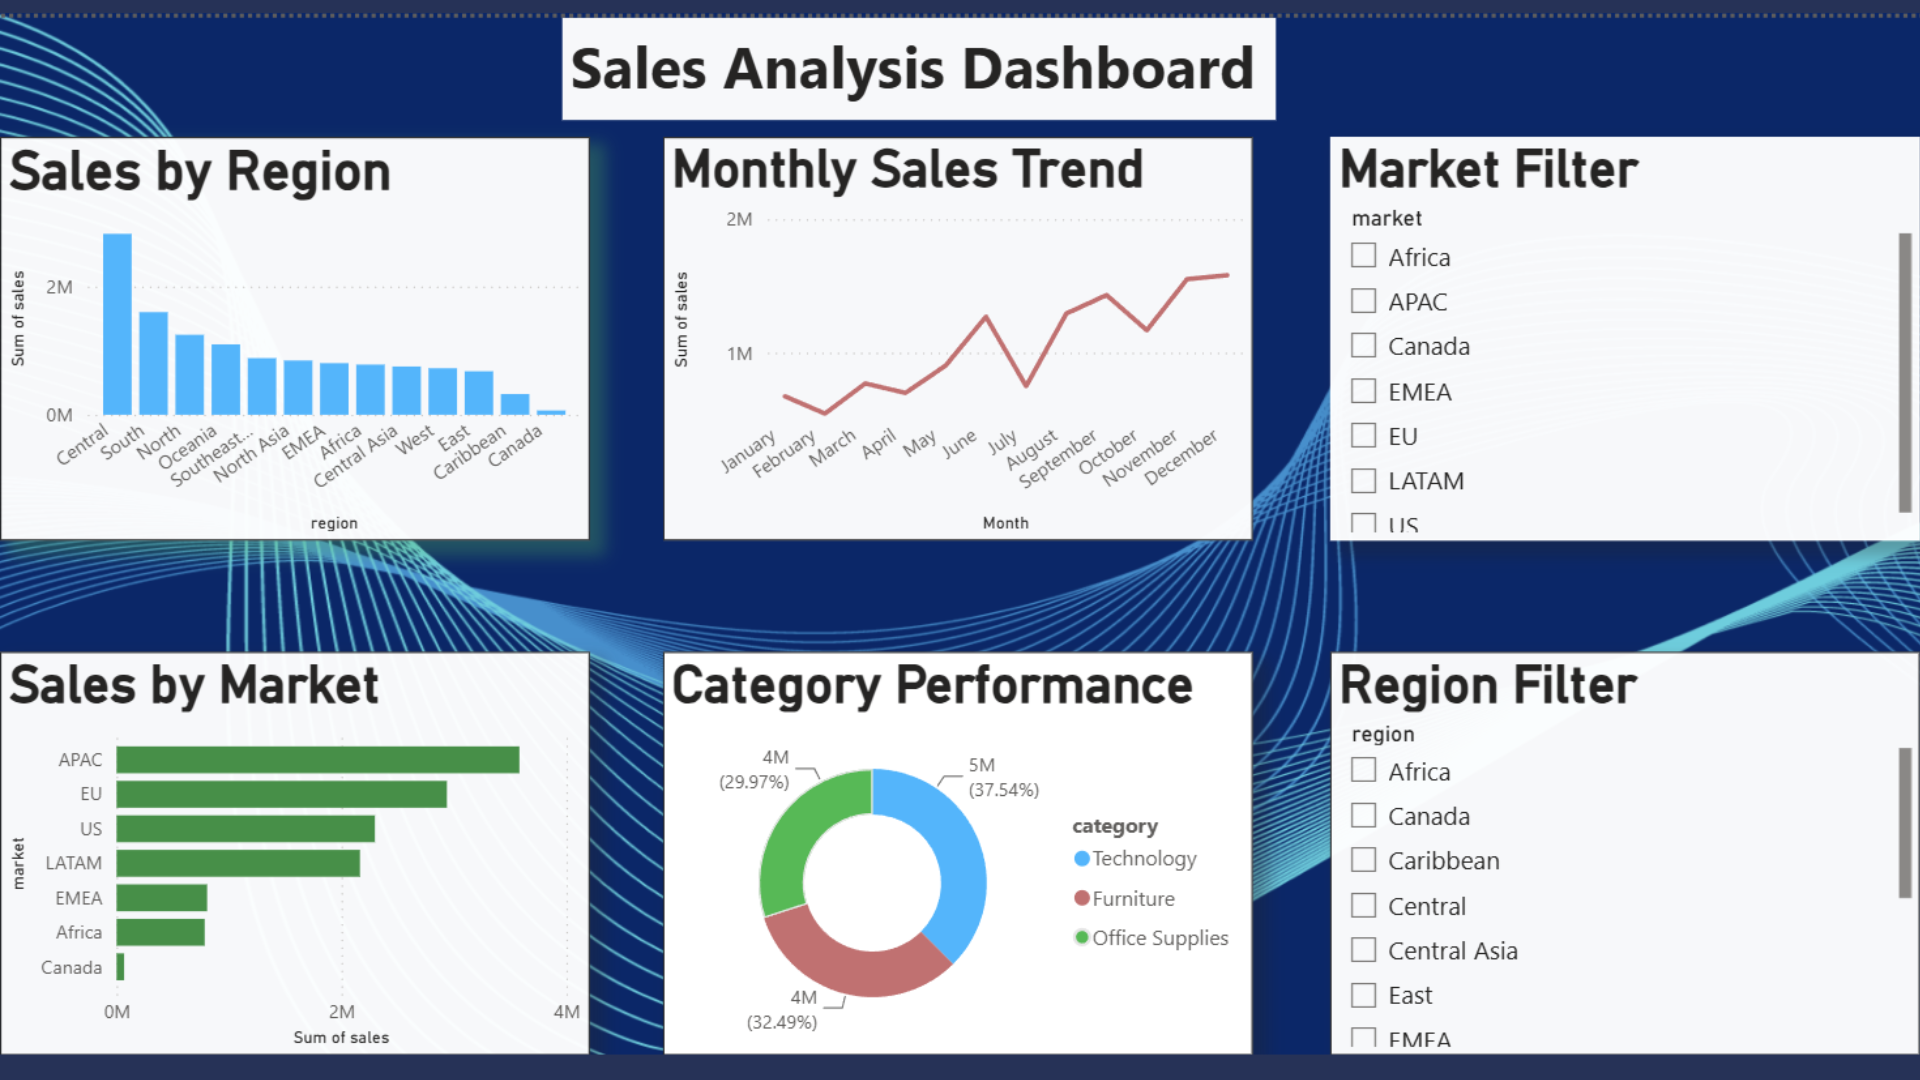

What the dashboard file says about the page in this screenshot:
{"tool":"powerbi","page":{"name":"Page 2","canvas":[1280,720],"ordinal":1},"visuals":[{"type":"clusteredColumnChart","title":" Sales by Region","fields":{"Category":["Dataset.region"],"Y":["Sum(Dataset.sales)"]},"box":[32.9,77.1,380,260],"z":0},{"type":"barChart","title":"Sales by Market","fields":{"Category":["Dataset.market"],"Y":["Sum(Dataset.sales)"]},"box":[32.9,408.6,380,260],"z":1},{"type":"lineChart","title":"Monthly Sales Trend","fields":{"Category":["Dataset.order_date.Variation.Date Hierarchy.Month"],"Y":["Sum(Dataset.sales)"]},"box":[460,77.1,380,260],"z":2},{"type":"donutChart","title":"Category Performance","fields":{"Category":["Dataset.category"],"Y":["Sum(Dataset.sales)"]},"box":[460,408.6,380,260],"z":3},{"type":"slicer","title":"Market Filter","fields":{"Values":["Dataset.market"]},"box":[890,77.1,380,260],"z":4},{"type":"slicer","title":"Region Filter","fields":{"Values":["Dataset.region"]},"box":[890,408.6,380,260],"z":5},{"type":"textbox","box":[395.7,0,460,65.7],"z":7}]}

Visuals, with their boxes in screenshot pixels (x1, y1, x2, y2), scaled from the page's 1280x720 canvas onto the 1920x1080 screenshot:
" Sales by Region" clusteredColumnChart: (x1=49, y1=116, x2=619, y2=506)
"Sales by Market" barChart: (x1=49, y1=613, x2=619, y2=1003)
"Monthly Sales Trend" lineChart: (x1=690, y1=116, x2=1260, y2=506)
"Category Performance" donutChart: (x1=690, y1=613, x2=1260, y2=1003)
"Market Filter" slicer: (x1=1335, y1=116, x2=1905, y2=506)
"Region Filter" slicer: (x1=1335, y1=613, x2=1905, y2=1003)
textbox: (x1=594, y1=0, x2=1284, y2=99)
